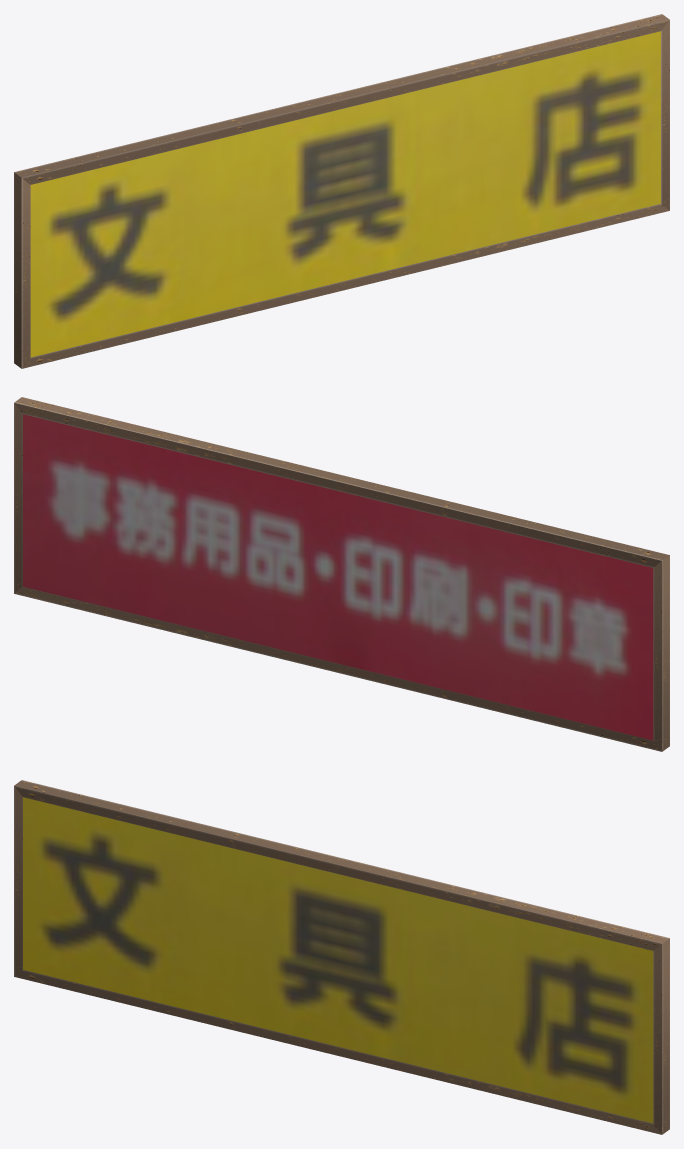
Rendered from shopboard05a.fbx.
3 renders of one model, top to bottom at view 1: azimuth 30°, elevation 25°; view 2: azimuth 150°, elevation 25°; view 3: azimuth 330°, elevation 25°, orthographic.
Parts seen in each view (by area): view 1: shopboard05a; view 2: shopboard05a; view 3: shopboard05a.
Boxes of the visible parts, left/top/right/bottom form: shopboard05a: left=14, top=14, right=669, bottom=368; shopboard05a: left=14, top=397, right=669, bottom=751; shopboard05a: left=14, top=780, right=669, bottom=1134.
Size of the model in its own units: 120 by 33.88 by 2.51.
